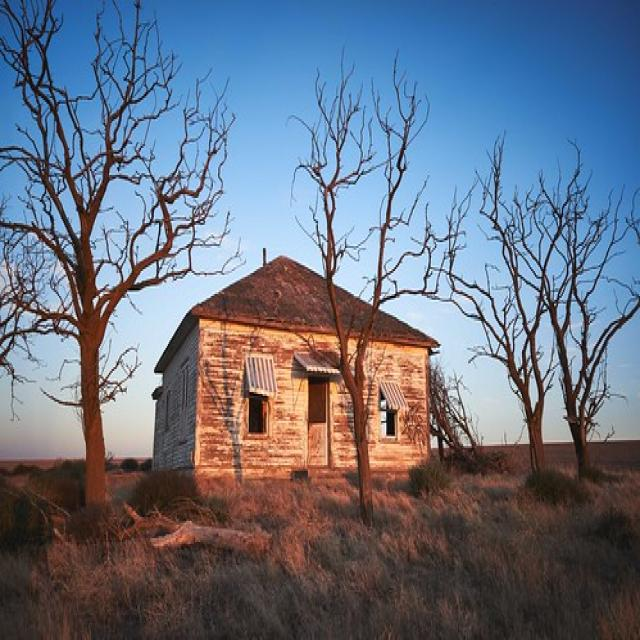Normal_building: (144, 249, 438, 487)
